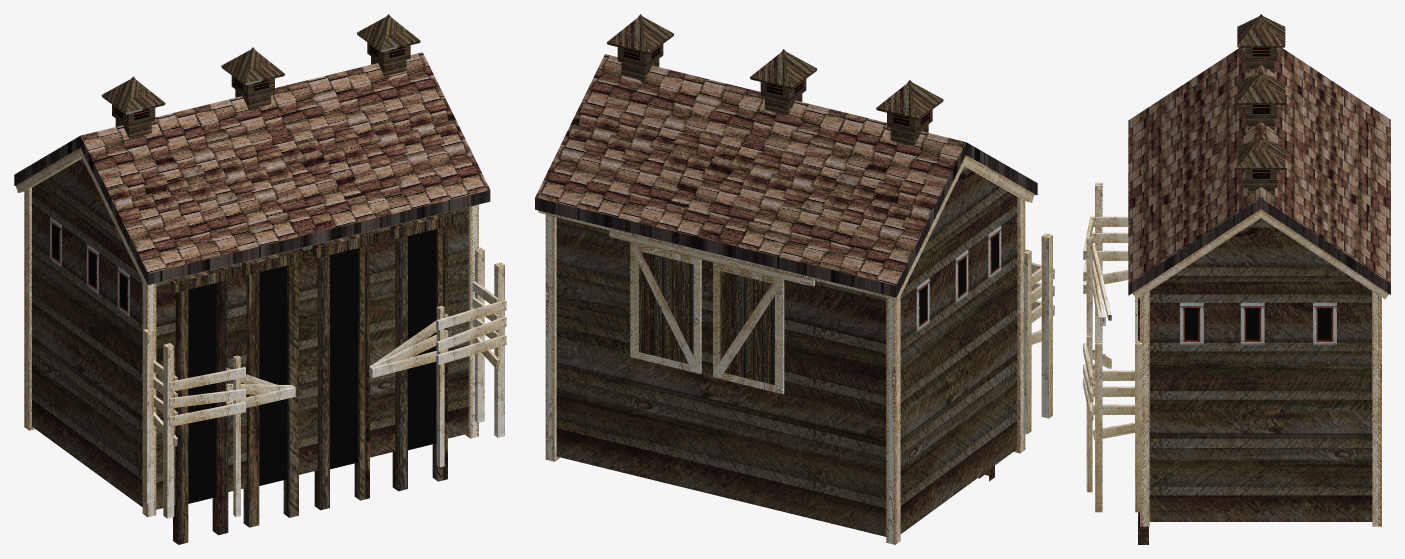
Rendered from brit_stable.dae.
3 renders of one model, left to right at view 1: azimuth 30°, elevation 25°; view 2: azimuth 150°, elevation 25°; view 3: azimuth 270°, elevation 25°, orthographic. The views are drawn at different scales.
Parts seen in each view (by area): view 1: BRITStable; view 2: BRITStable; view 3: BRITStable.
Part boxes in pixels (box(x1,y1,x2,y2)): BRITStable: box(14, 14, 506, 544); BRITStable: box(535, 14, 1054, 544); BRITStable: box(1083, 14, 1390, 544).
Bounding box in the file's own units: 20.22 × 16.04 × 23.6.
